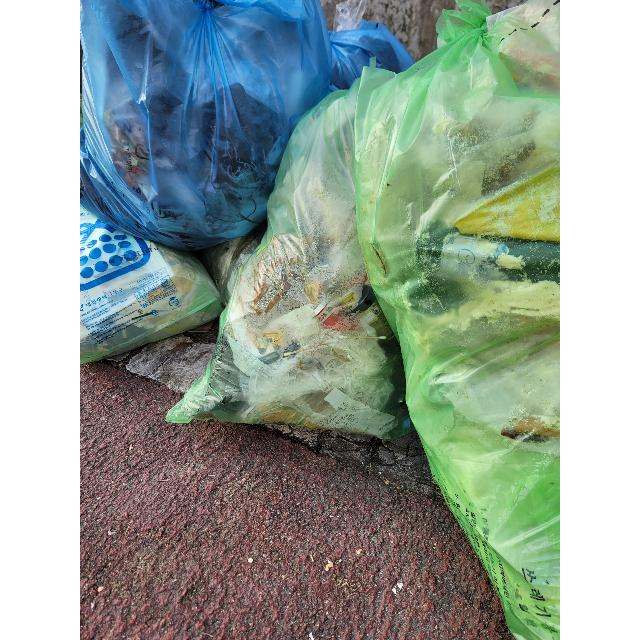general_trashbag: (354, 0, 560, 640), (166, 81, 414, 439), (80, 208, 222, 362)
other_trashbag: (81, 0, 331, 250), (329, 20, 414, 90)
